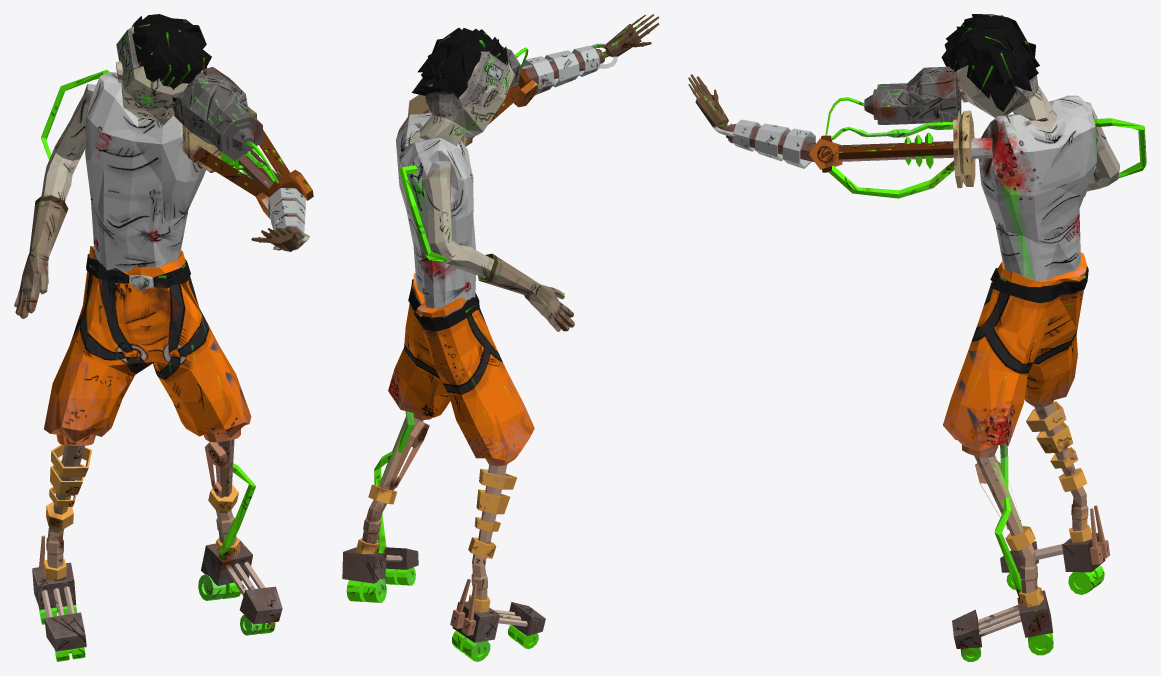
File: CyborgFINALAnimation_000107.obj
3 renders of one model, left to right at view 1: azimuth 30°, elevation 25°; view 2: azimuth 150°, elevation 25°; view 3: azimuth 270°, elevation 25°, orthographic. The views are drawn at different scales.
Visible parts, largest first — view 1: CyborgMesh_Cube.002; view 2: CyborgMesh_Cube.002; view 3: CyborgMesh_Cube.002.
Part boxes in pixels (x1,y1,x2,y2): CyborgMesh_Cube.002: (14, 14, 313, 661); CyborgMesh_Cube.002: (342, 14, 659, 661); CyborgMesh_Cube.002: (688, 14, 1146, 661).
Size of the model in its own units: 3.67 by 9.44 by 6.5.
